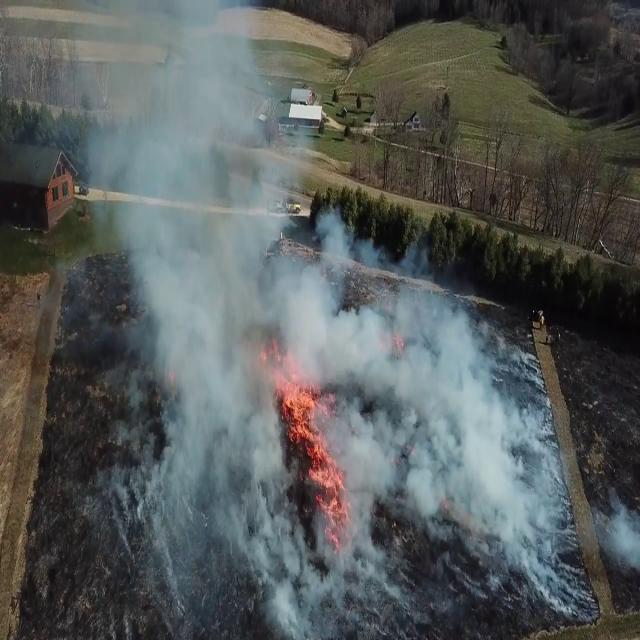Fire: (274, 352, 348, 536)
Smoke: (80, 4, 320, 630), (280, 181, 542, 625)
